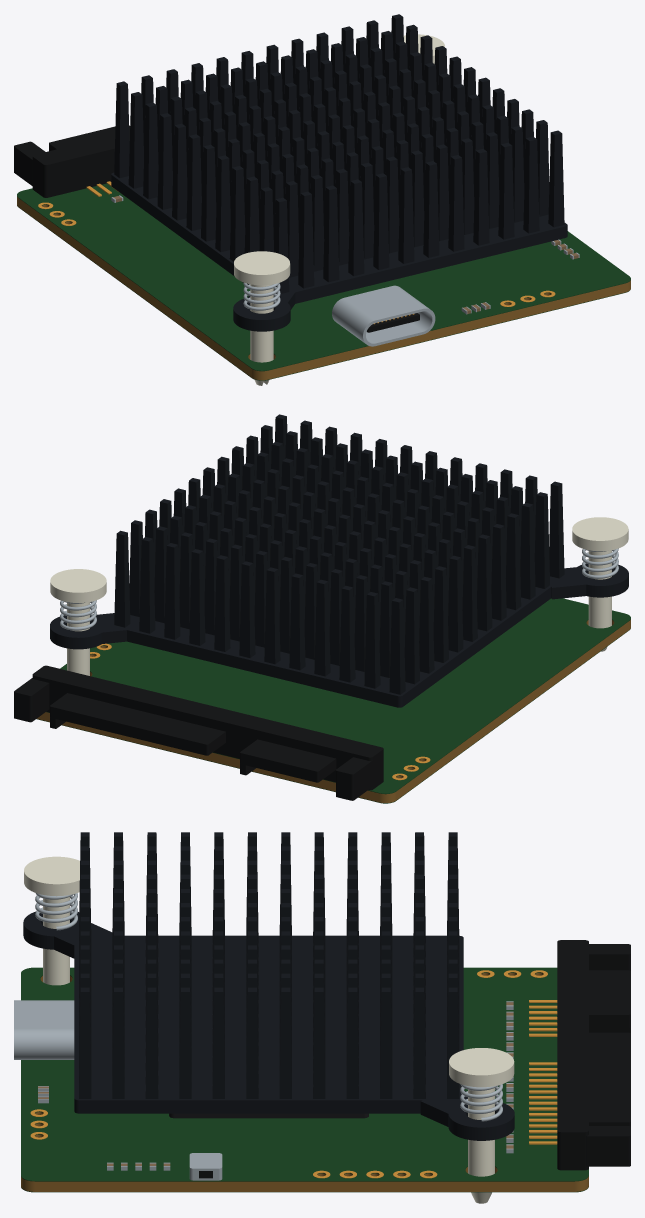
The model's file is mci-845-coreboard.glb.
3 renders of one model, top to bottom at view 1: azimuth 30°, elevation 25°; view 2: azimuth 150°, elevation 25°; view 3: azimuth 270°, elevation 25°, orthographic. The views are drawn at different scales.
Visible parts, largest first — view 1: Anodized aluminum heatsink, Top solder mask, FR4, SATA 22-position housing, USB-C shield, White push pins, Coil springs, Bottom solder mask; view 2: Anodized aluminum heatsink, Top solder mask, SATA 22-position housing, White push pins, FR4, Coil springs, Bottom solder mask; view 3: Anodized aluminum heatsink, Top solder mask, SATA 22-position housing, White push pins, FR4, USB-C shield, SATA contacts and solder tails, Coil springs, Processor package, Plated pads, Passive end caps, Side tactile switch (+1 smaller).
Boxes of the visible parts, box(x1,y1,x2,y2) form: Anodized aluminum heatsink: box(111, 14, 567, 331); Top solder mask: box(17, 183, 630, 371); FR4: box(17, 196, 630, 380); SATA 22-position housing: box(14, 125, 130, 197); USB-C shield: box(332, 285, 435, 346); White push pins: box(234, 34, 444, 385); Coil springs: box(243, 282, 280, 310); Bottom solder mask: box(17, 205, 630, 380); Anodized aluminum heatsink: box(50, 414, 628, 707); Top solder mask: box(46, 598, 630, 794); SATA 22-position housing: box(14, 665, 383, 800); White push pins: box(50, 517, 628, 675); FR4: box(37, 619, 630, 802); Coil springs: box(60, 548, 618, 630); Bottom solder mask: box(36, 628, 630, 803); Anodized aluminum heatsink: box(23, 832, 514, 1140); Top solder mask: box(21, 967, 588, 1181); SATA 22-position housing: box(557, 940, 630, 1170); White push pins: box(24, 856, 514, 1203); FR4: box(21, 973, 588, 1191); USB-C shield: box(14, 1000, 74, 1059); SATA contacts and solder tails: box(529, 1000, 557, 1144); Coil springs: box(35, 893, 502, 1121); Processor package: box(169, 1113, 368, 1118); Plated pads: box(30, 970, 547, 1178); Passive end caps: box(38, 1001, 513, 1170); Side tactile switch: box(189, 1153, 222, 1180).
Bounding box in the file's own units: 0.0493 × 0.0203 × 0.0586.
